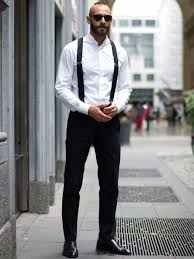F_dress pants: (62, 96, 120, 239)
F_shirt: (53, 30, 134, 123)
